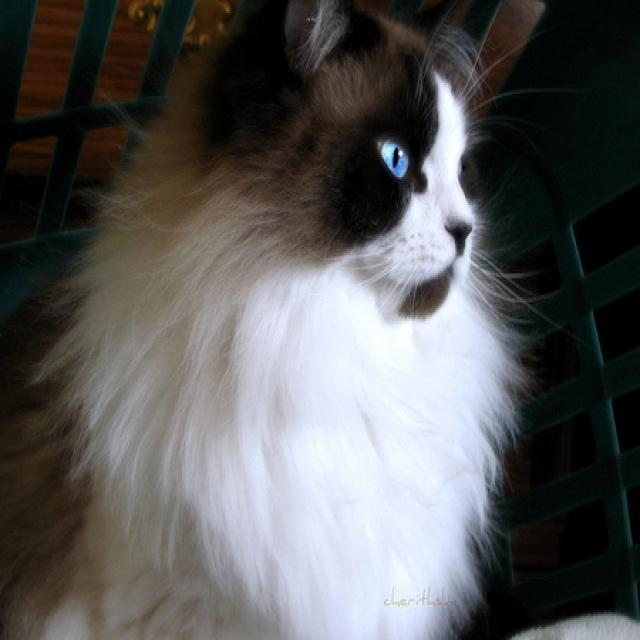Ragdoll: (0, 0, 526, 640)
